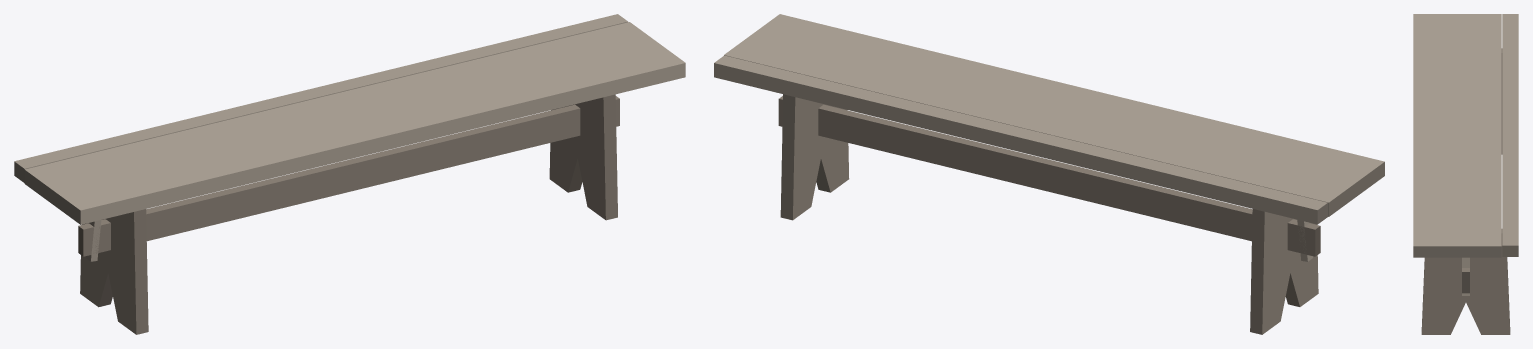
File: prop_bench.glb
3 views of the same model, side by side, from view 1: azimuth 30°, elevation 25°; view 2: azimuth 150°, elevation 25°; view 3: azimuth 270°, elevation 25° (orthographic). The views are drawn at different scales.
Parts seen in each view (by area): view 1: Bench; view 2: Bench; view 3: Bench.
Part boxes in pixels (left/top/right/bottom): Bench: left=14, top=14, right=685, bottom=334; Bench: left=714, top=14, right=1384, bottom=334; Bench: left=1413, top=14, right=1518, bottom=334.
Size of the model in its own units: 1.99 by 0.4495 by 0.38.
